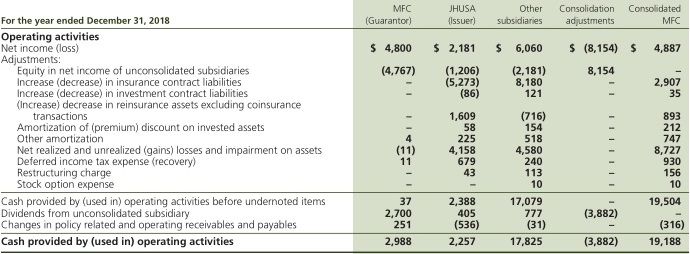column: (1, 1, 327, 254), (559, 1, 618, 254), (628, 1, 684, 254), (365, 1, 416, 254), (495, 1, 546, 254), (433, 1, 479, 254)
row: (1, 99, 690, 110), (1, 196, 690, 207), (1, 208, 690, 219), (1, 220, 690, 231), (1, 31, 690, 41), (1, 54, 690, 64), (1, 88, 690, 98), (1, 157, 690, 167), (1, 168, 690, 178), (1, 77, 689, 87), (1, 16, 690, 25), (1, 44, 690, 53), (1, 66, 690, 75), (1, 123, 690, 132), (1, 134, 690, 143), (1, 180, 690, 189), (1, 236, 690, 245), (1, 146, 689, 155), (1, 4, 689, 12), (1, 112, 689, 120)
